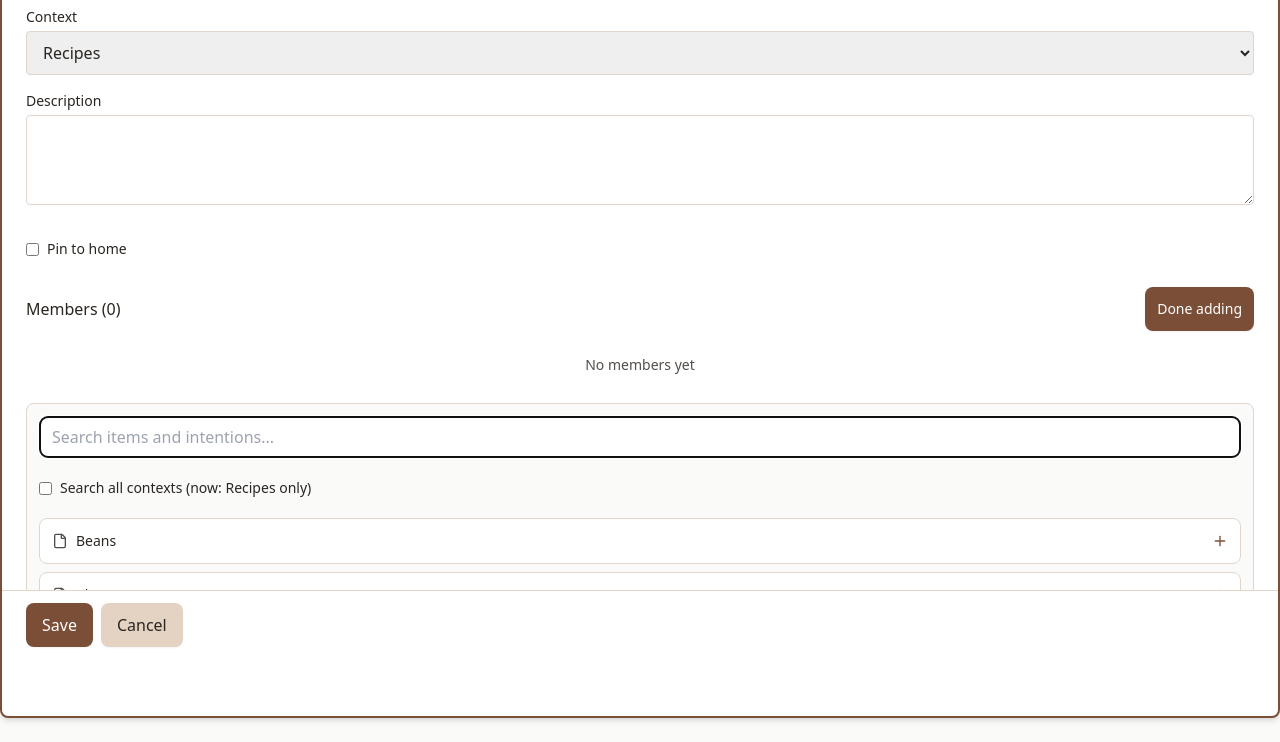
a new group defaults to the context's type and searches only that context
This screenshot has width=1280, height=742.
(page scrolled)
Check: the button "Rice" is shown, box [39, 572, 1241, 618]
Check: the button "Bug list" is not shown
Click the checkbox labelled "Search all contexts (now: Recipes only)" at (46, 488), box [39, 482, 52, 494]
(page scrolled)
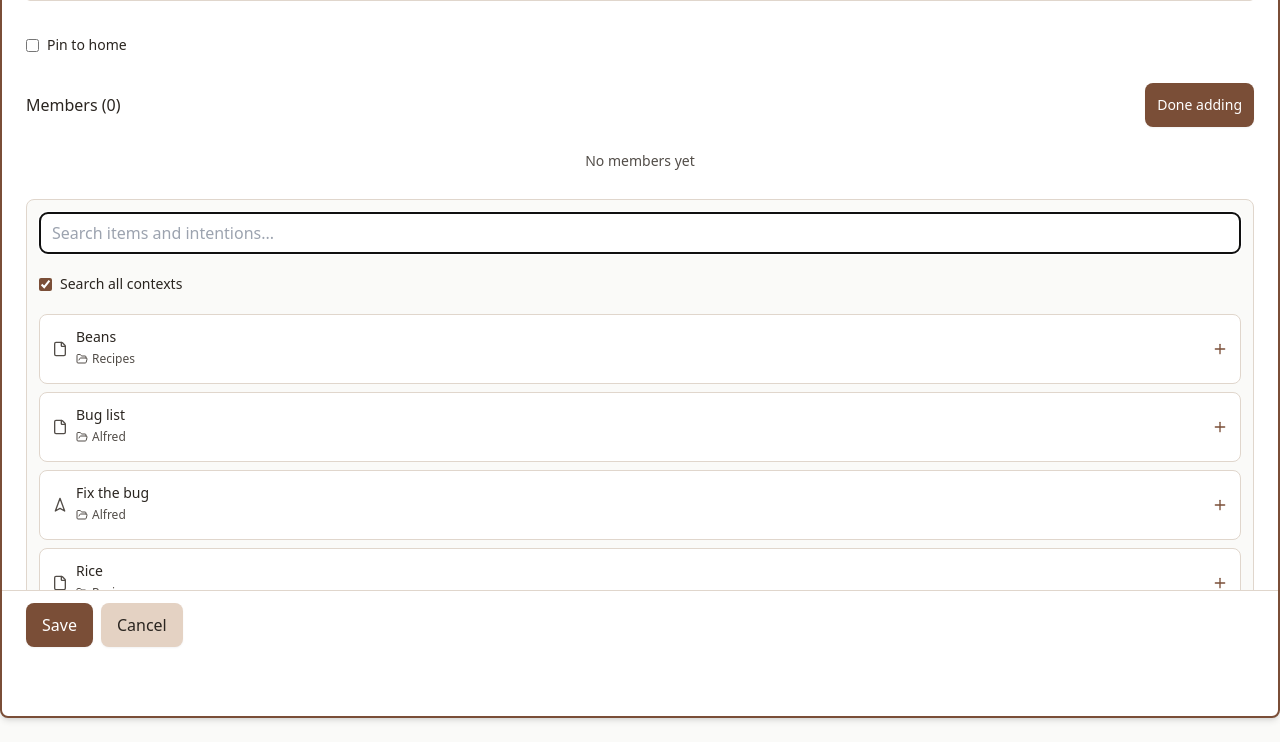
Check: the button "Bug list Alfred" is shown, box [39, 392, 1241, 462]
Check: the button "Fix the bug Alfred" is shown, box [39, 470, 1241, 540]
